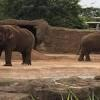elephant: (0, 25, 34, 65), (78, 32, 99, 60)
